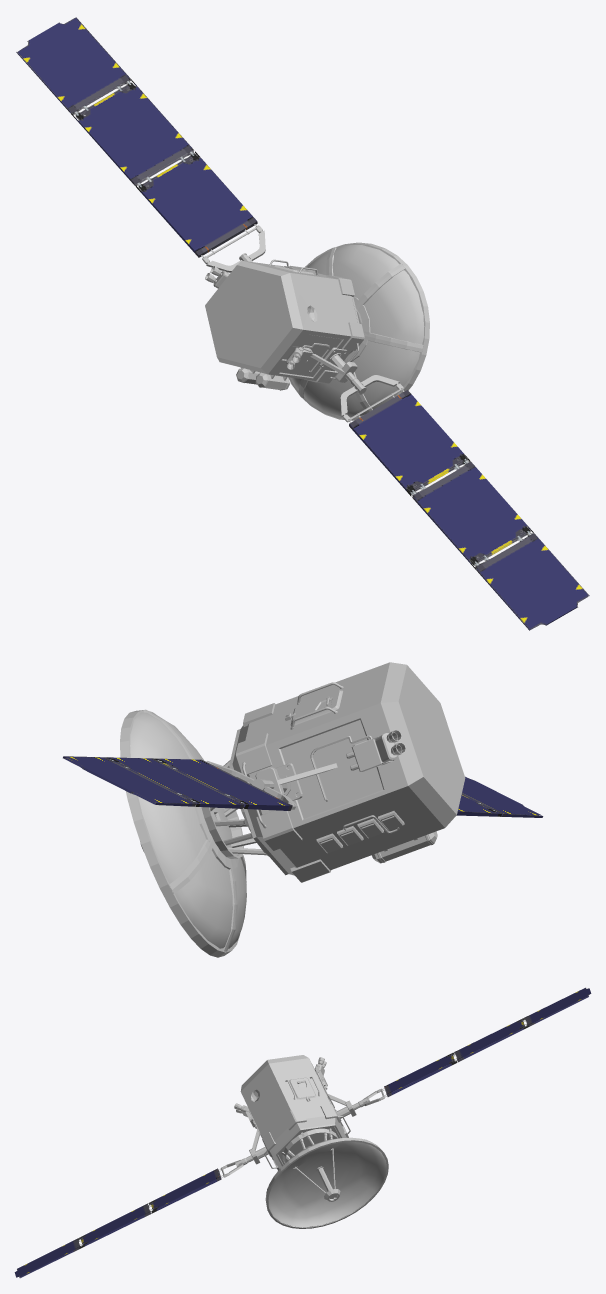
Rendered from SM_DGA_Satellite.fbx.
3 views of the same model, one above another, from view 1: azimuth 30°, elevation 25°; view 2: azimuth 150°, elevation 25°; view 3: azimuth 270°, elevation 25° (orthographic). The views are drawn at different scales.
Visible parts, largest first — view 1: pCube157; view 2: pCube157; view 3: pCube157.
Boxes of the visible parts, x1,y1,x2,y2 form: pCube157: [16, 17, 589, 630]; pCube157: [63, 662, 543, 957]; pCube157: [14, 987, 591, 1278].
Size of the model in its own units: 0.242 by 0.3868 by 0.7988.
